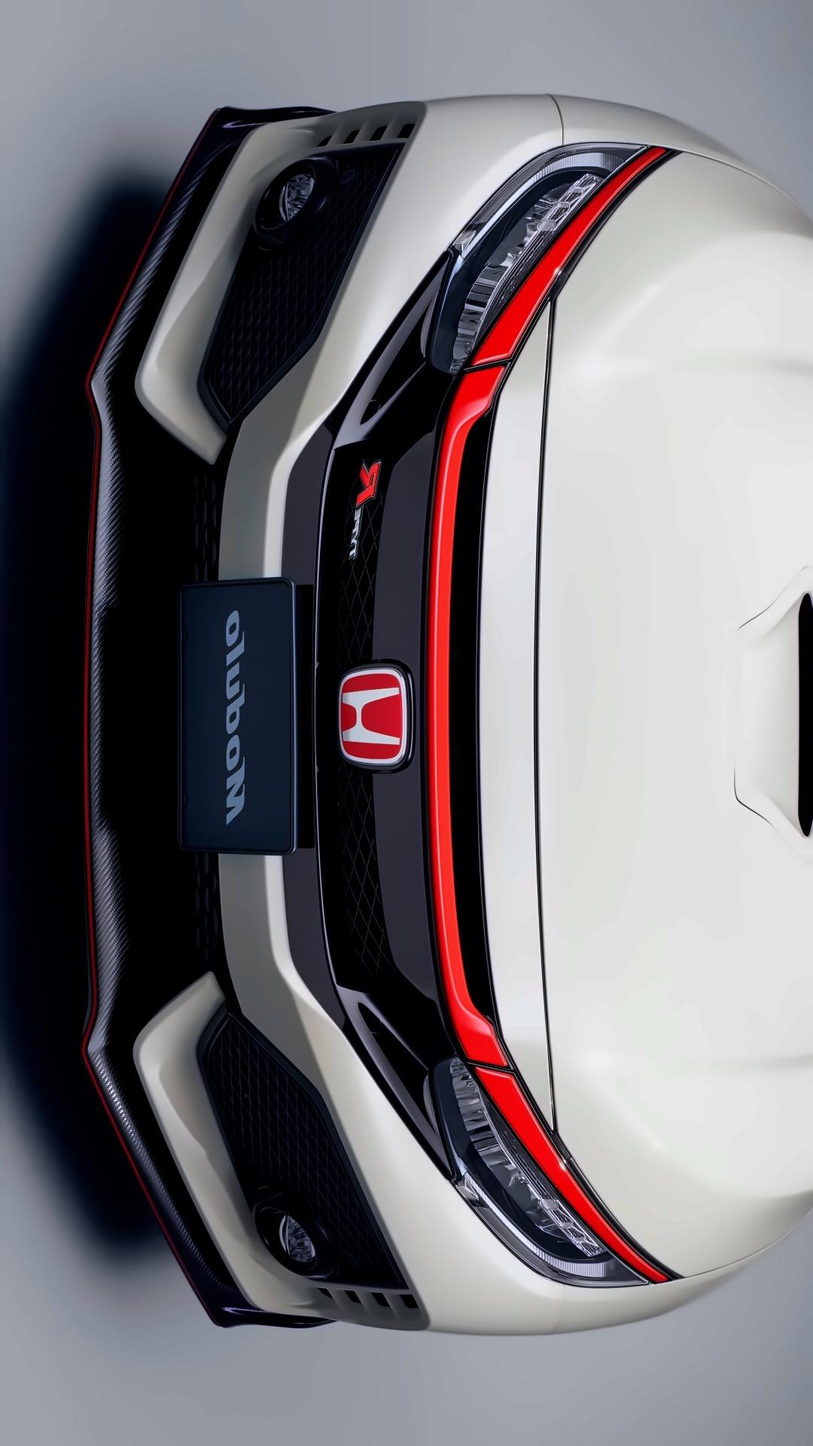Car hood: (530, 78, 813, 1302)
Front bumper: (58, 88, 574, 1349)
Headlight - -L-: (421, 1050, 681, 1289)
Headlight - -R-: (415, 121, 675, 383)
